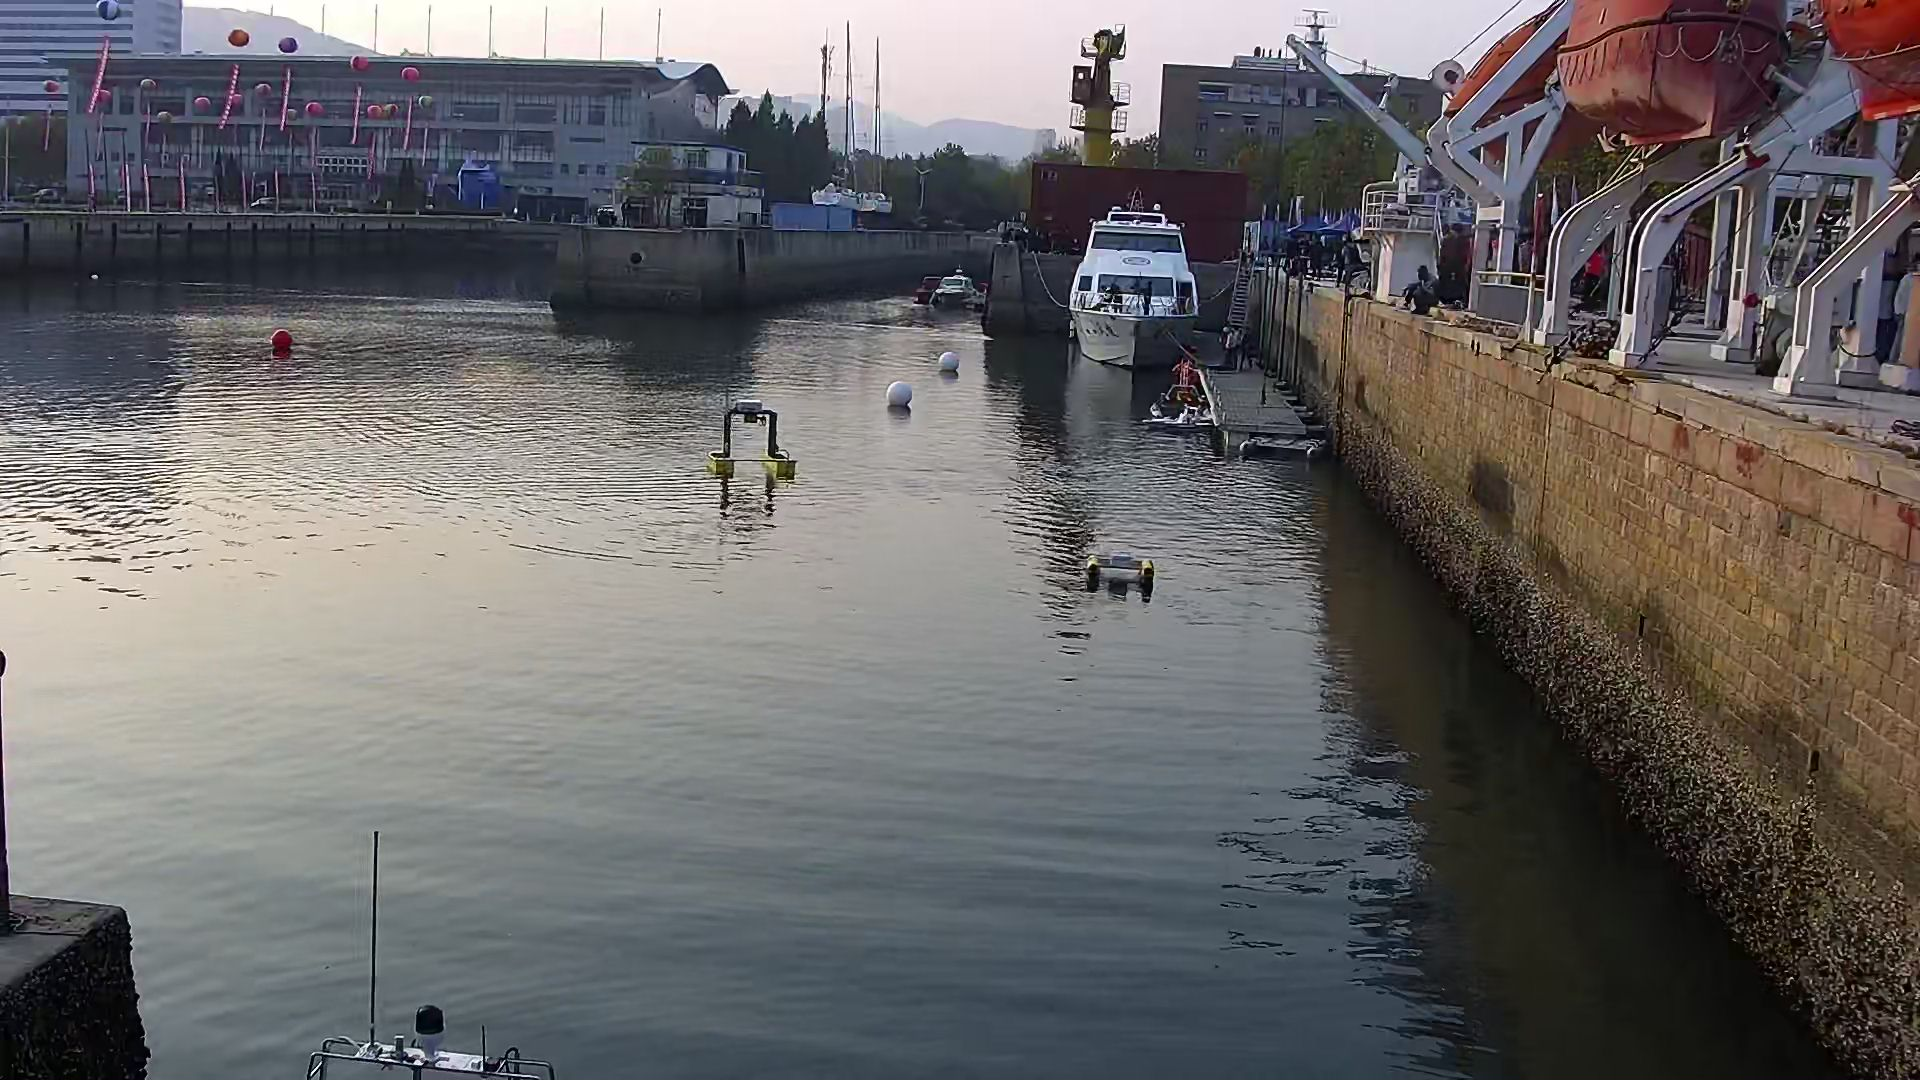ball: (266, 326, 301, 355), (884, 382, 915, 413), (938, 348, 963, 378)
boat: (704, 392, 799, 489), (1077, 549, 1160, 592)
ship: (1159, 320, 1328, 473), (1065, 207, 1196, 375), (934, 269, 978, 315)
